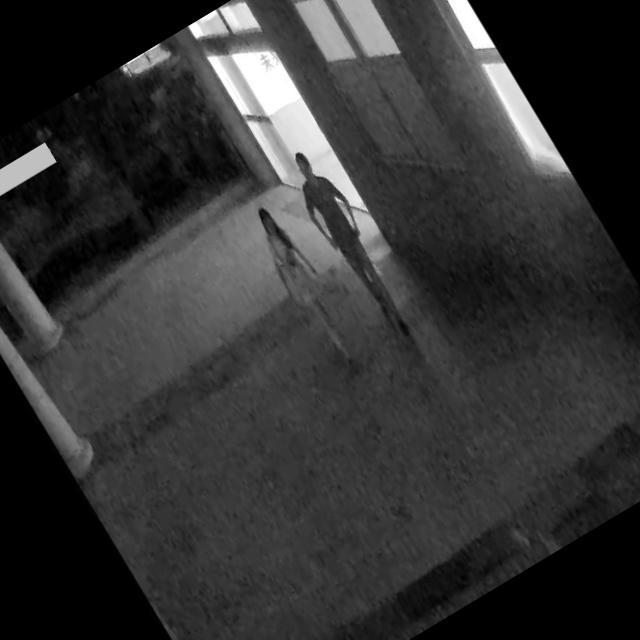person: (271, 135, 431, 356), (235, 190, 382, 394)
